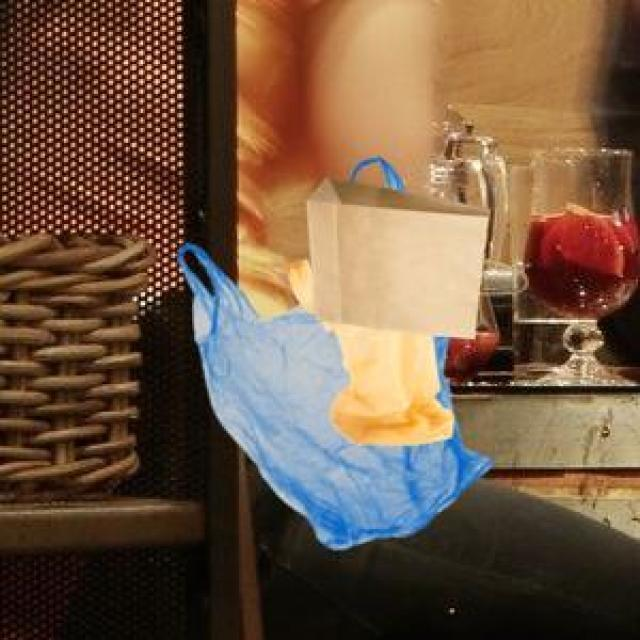paper: (303, 173, 489, 335)
